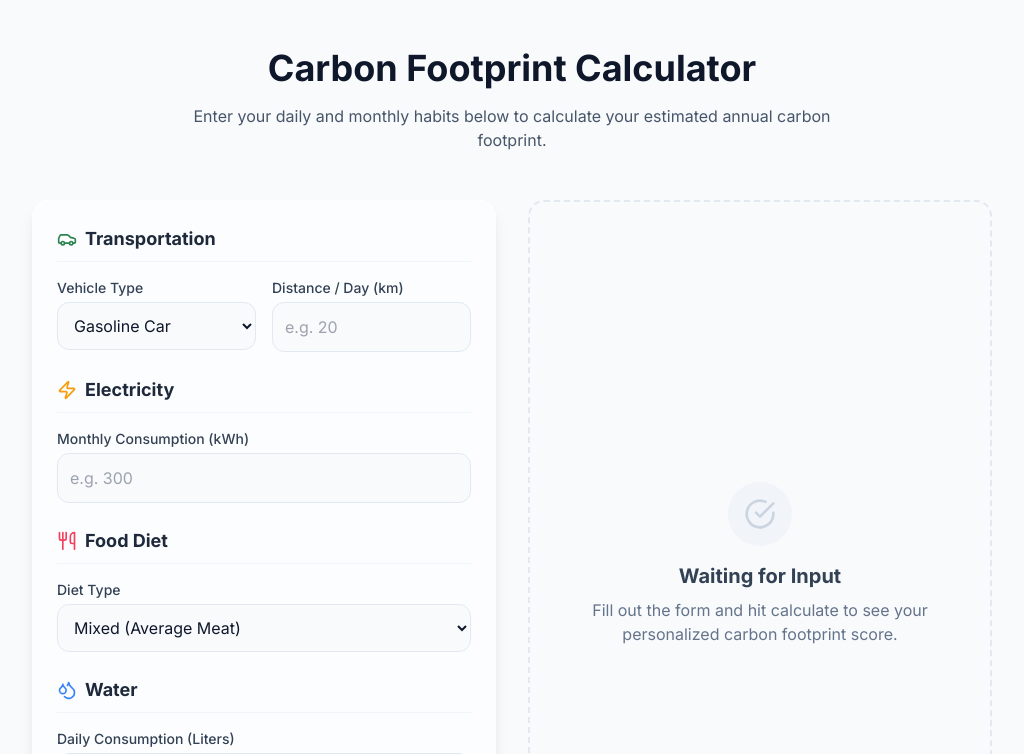
Scenario: CarbonCalculator Component › calculates and displays results for valid inputs
Step 1. Type "20" into the number field labelled "Distance / Day (km)" → coordinates (372, 327), box [272,302,471,352]
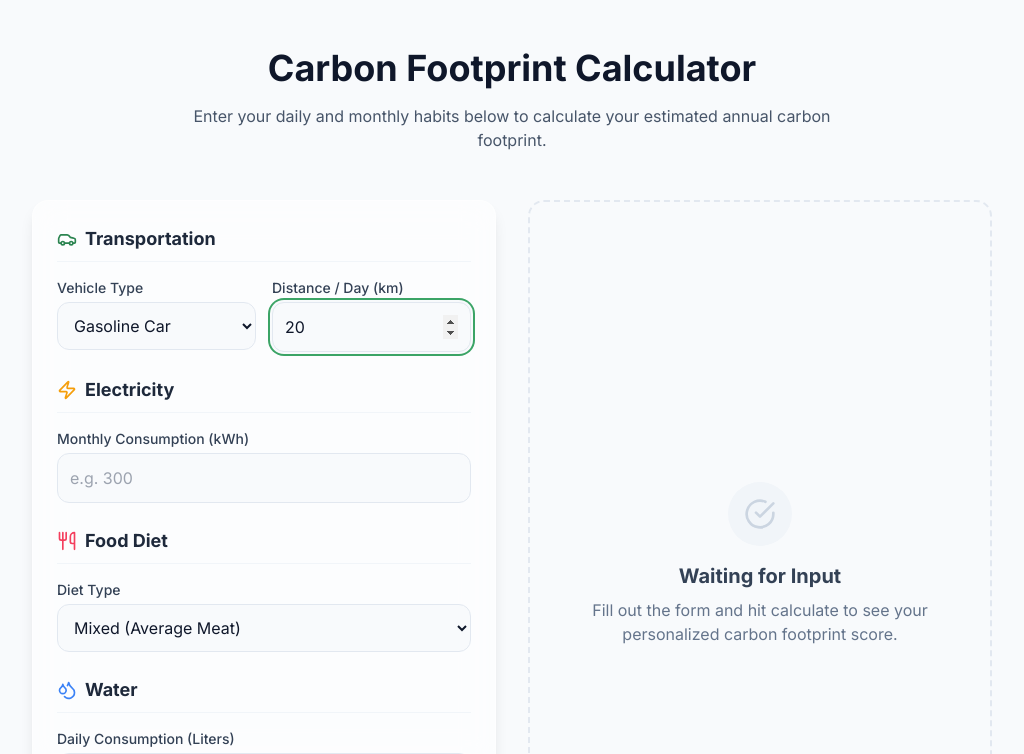
Step 2. Type "300" into the number field labelled "Monthly Consumption (kWh)" → coordinates (264, 478), box [57,453,471,503]
(page scrolled)
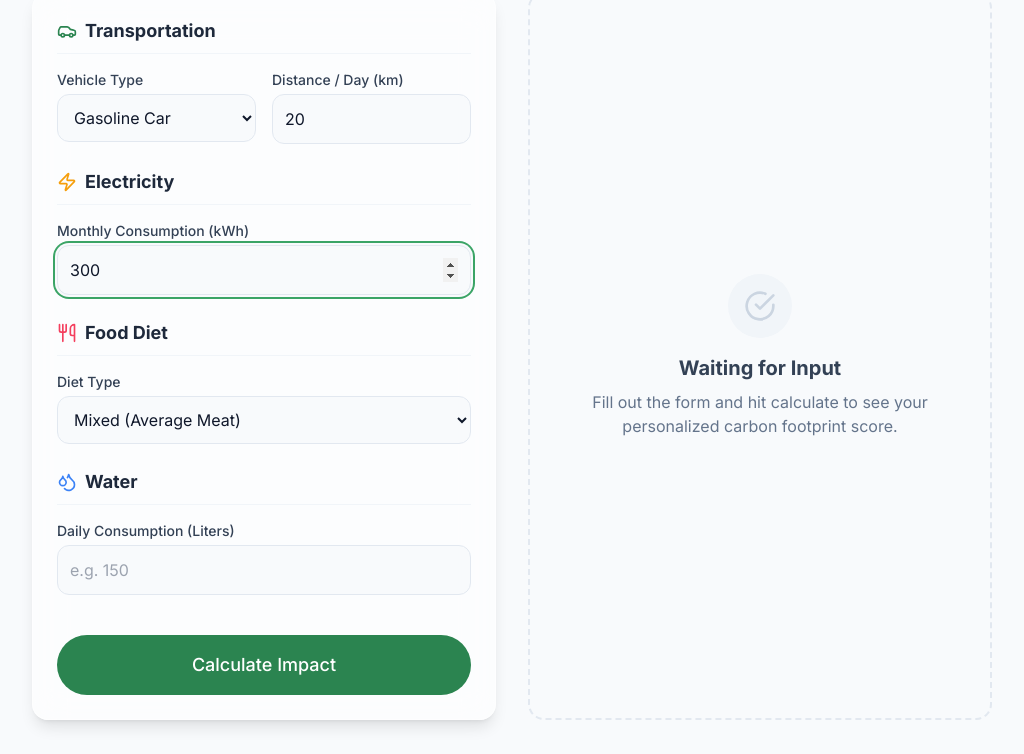
Step 3. Type "150" into the number field labelled "Daily Consumption (Liters)" → coordinates (264, 570), box [57,545,471,595]
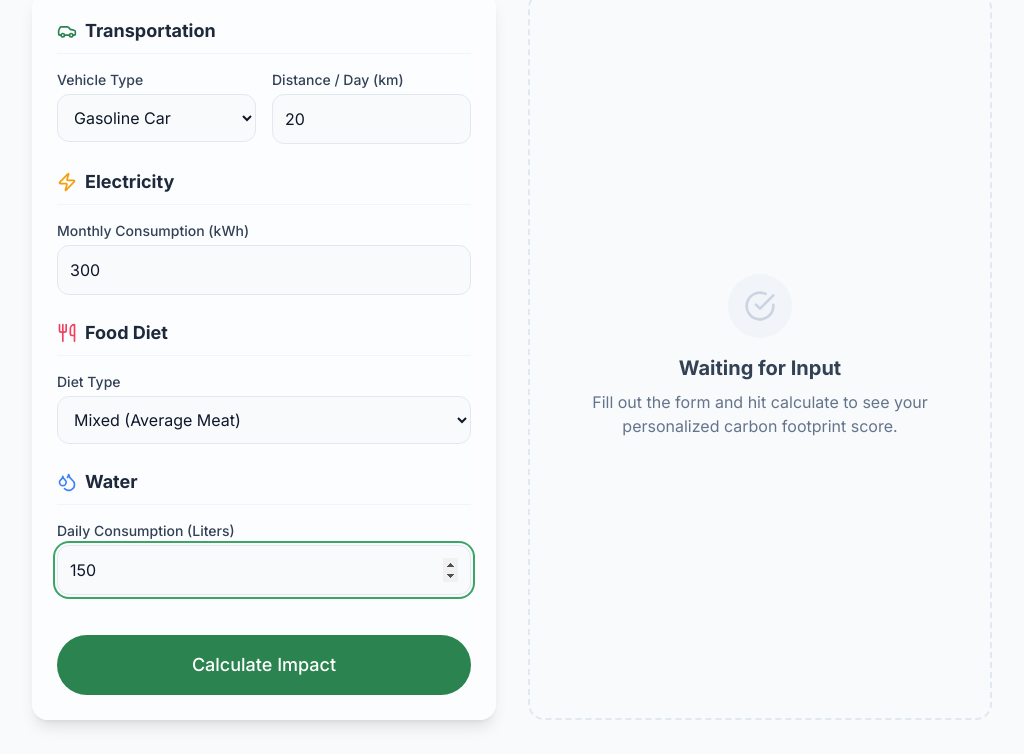
Step 4. Click the button "Calculate Impact" → coordinates (264, 665), box [57,635,471,695]
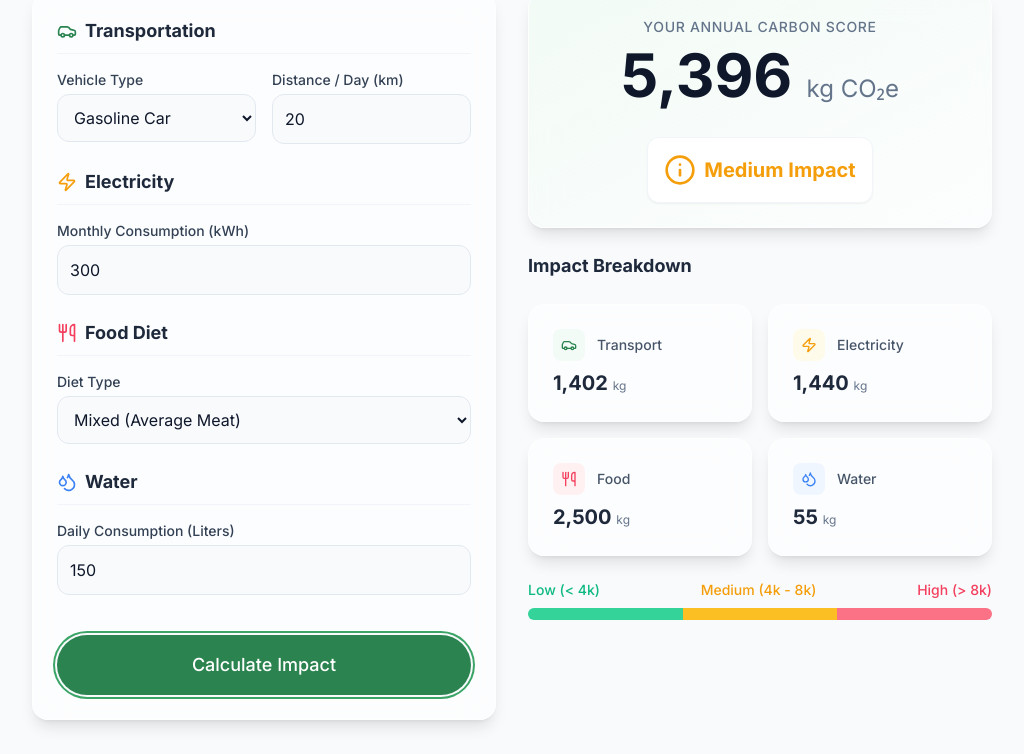
Now the heading "Your Annual Carbon Score" is shown, box [643,18,877,35]
Now the heading "Impact Breakdown" is shown, box [528,255,692,276]
